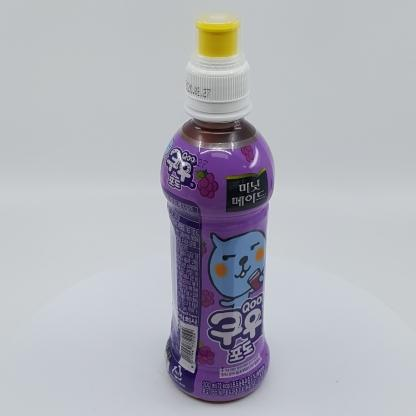------300ML: (160, 9, 275, 402)
